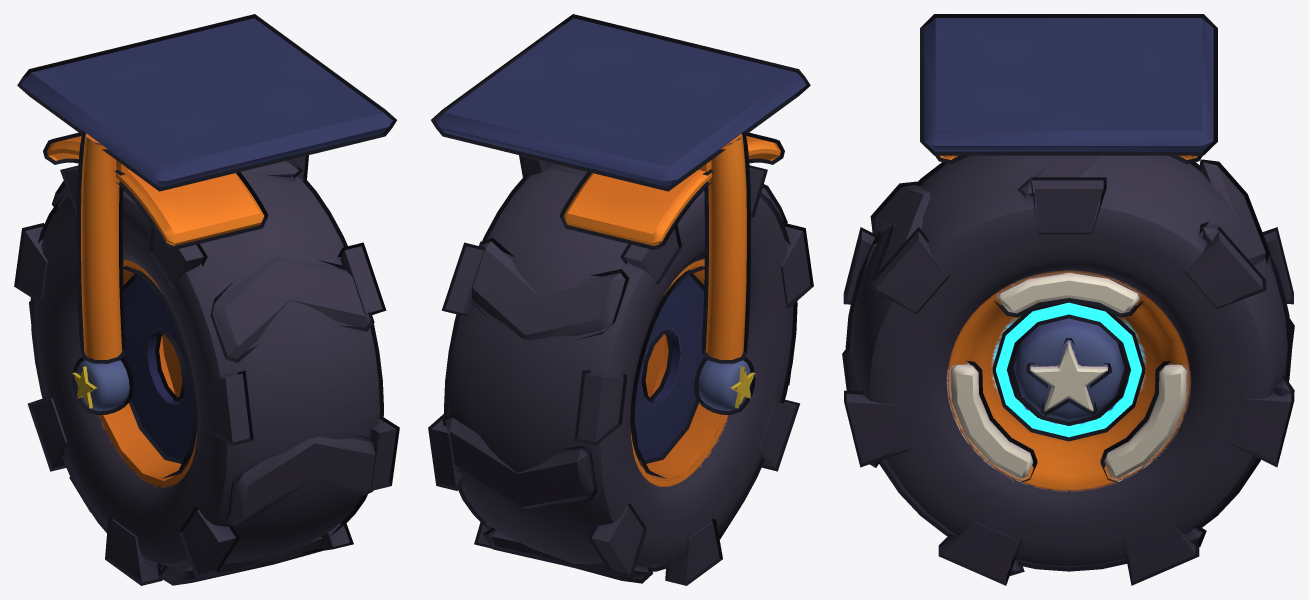
The model's file is R4M_Wheel.glb.
3 views of the same model, side by side, from view 1: azimuth 30°, elevation 25°; view 2: azimuth 150°, elevation 25°; view 3: azimuth 270°, elevation 25° (orthographic). The views are drawn at different scales.
Parts seen in each view (by area): view 1: R4M_Wheel_Rotor, R4M_Wheel_Mount; view 2: R4M_Wheel_Rotor, R4M_Wheel_Mount; view 3: R4M_Wheel_Rotor, R4M_Wheel_Mount.
Boxes of the visible parts, x1,y1,x2,y2 form: R4M_Wheel_Rotor: (14, 155, 399, 585); R4M_Wheel_Mount: (17, 14, 396, 415); R4M_Wheel_Rotor: (428, 155, 813, 585); R4M_Wheel_Mount: (431, 14, 810, 415); R4M_Wheel_Rotor: (842, 155, 1294, 585); R4M_Wheel_Mount: (920, 14, 1217, 164).
Bounding box in the file's own units: 0.5194 × 0.9121 × 0.7816.
Materials: 2 (1 with a texture image).
